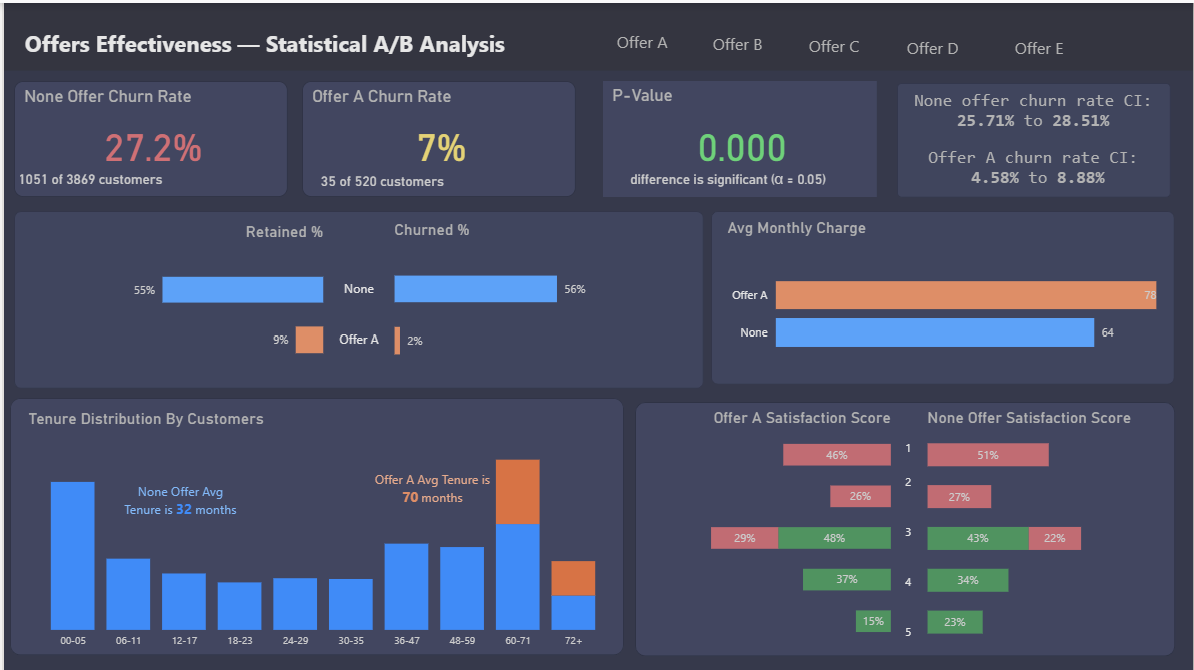

This screenshot's page, from the dashboard's own definition file:
{"tool":"powerbi","page":{"name":"Offer A/B test","canvas":[1280,720],"ordinal":4},"visuals":[{"type":"shape","box":[0,0,1280,72.9],"z":0,"group":"g3"},{"type":"group","id":"g1","title":"Group 8","box":[9.9,83,295.3,125],"z":0},{"type":"card","title":"None Offer Churn Rate","fields":{"Values":["_calculation.None Offer Churn Rate"]},"box":[10.2,83,295,125],"z":0,"group":"g1"},{"type":"card","title":"Offer E Churn Rate","fields":{"Values":["_calculation.Churn Rate"]},"box":[322.5,85,295,125],"z":0,"group":"g8"},{"type":"card","title":"P-Value","fields":{"Values":["Sum(offers A/B results.p-value)"]},"box":[645.1,85,295,125],"z":0,"group":"g7"},{"type":"shape","box":[962.4,87.3,295,123.5],"z":0,"group":"g10"},{"type":"group","id":"g2","title":"Churn vs Retained","box":[7,225.9,746.4,191],"z":0,"group":"g9"},{"type":"shape","box":[11,225.9,742.1,190.5],"z":0,"group":"g2"},{"type":"shape","box":[760,226.5,499.5,186],"z":0,"group":"g4"},{"type":"shape","box":[7.4,426.4,660.4,277.3],"z":0,"group":"g5"},{"type":"shape","box":[678.4,429.5,582,274.2],"z":0,"group":"g6"},{"type":"group","id":"g3","title":"Header","box":[0,0,1280,72.9],"z":1000},{"type":"actionButton","box":[1083.1,28.4,72,39.8],"z":1000,"group":"g3"},{"type":"enlightenDataStoryDDFB78A6143E42CFAFBC50CCF18D978D","fields":{"measure":["Min(offers A/B results.offer)","Sum(offers A/B results.low bound CI)","Sum(offers A/B results.high bound CI)"]},"box":[962.4,148,294.5,61.1],"z":1000,"group":"g10"},{"type":"card","fields":{"Values":["_calculation.Churn Subtitle"]},"box":[9.9,173.4,168.5,33],"z":1000,"group":"g1"},{"type":"card","fields":{"Values":["_calculation.P Value Result"]},"box":[645.6,175.6,269.2,34.7],"z":1000,"group":"g7"},{"type":"card","fields":{"Values":["_calculation.Churn Subtitle"]},"box":[327.7,178,168.5,33],"z":1000,"group":"g8"},{"type":"group","id":"g4","title":"Offer","box":[758,223.8,502.2,190],"z":1000,"group":"g9"},{"type":"clusteredBarChart","title":"Avg Monthly Charge","fields":{"Y":["_calculation.Monthly Charge"],"Category":["telco telco_customer_churn_services.Offer"]},"box":[758,223.8,502.2,190],"z":1000,"group":"g4"},{"type":"barChart","title":"Retained %","fields":{"Category":["telco telco_customer_churn_services.Offer"],"Y":["_calculation.Retained %"]},"box":[7,229,357.7,186],"z":1000,"group":"g2"},{"type":"columnChart","title":"Tenure Distribution By Customers","fields":{"Category":["telco telco_customer_churn_services.Tenure in Months Group"],"Y":["CountNonNull(telco telco_customer_churn.CustomerID)"],"Series":["telco telco_customer_churn_services.Offer"]},"box":[7.4,427.9,660.4,275.7],"z":1000,"group":"g5"},{"type":"textbox","box":[931.6,462.7,84.5,233],"z":1000,"group":"g6"},{"type":"actionButton","box":[967.6,28.4,72,39.8],"z":2000,"group":"g3"},{"type":"textbox","box":[961.6,88.8,302.7,74.7],"z":2000,"group":"g10"},{"type":"barChart","title":"Churned %","fields":{"Category":["telco telco_customer_churn_services.Offer"],"Y":["_calculation.Churn %"]},"box":[402.2,226.4,351.2,190.5],"z":2000,"group":"g2"},{"type":"group","id":"g5","title":"Tenure Part","box":[7.4,426.4,660.4,277.3],"z":2000,"group":"g9"},{"type":"barChart","title":"Offer E Satisfaction Score ","fields":{"Category":["telco telco_customer_churn_status.Satisfaction Score"],"Series":["telco vw_customer_status.Churn Label"],"Y":["_calculation.Satisfaction %"]},"box":[681.5,426.9,283.5,276.3],"z":2000,"group":"g6"},{"type":"enlightenDataStoryDDFB78A6143E42CFAFBC50CCF18D978D","fields":{"measure":["Min(offers A/B results.offer)","_calculation.Avg Tenure"]},"box":[133.3,494.8,137.9,69],"z":2000,"group":"g5"},{"type":"actionButton","box":[861.5,26.5,72,39.8],"z":3000,"group":"g3"},{"type":"textbox","box":[327.3,295.2,110.1,93.7],"z":3000,"group":"g2"},{"type":"group","id":"g6","title":"Staisfaction score","box":[678.4,426.9,582,278.4],"z":3000,"group":"g9"},{"type":"barChart","title":"None Offer Satisfaction Score","fields":{"Category":["telco telco_customer_churn_status.Satisfaction Score"],"Series":["telco vw_customer_status.Churn Label"],"Y":["_calculation.None Offer Satisfaction %"]},"box":[974.3,427.9,285.6,277.3],"z":3000,"group":"g6"},{"type":"enlightenDataStoryDDFB78A6143E42CFAFBC50CCF18D978D","fields":{"measure":["_calculation.Avg None Offer Tuner"]},"box":[379,518.5,137.9,66.8],"z":3000,"group":"g5"},{"type":"actionButton","box":[759.3,22.7,72,39.8],"z":4000,"group":"g3"},{"type":"group","id":"g7","title":"Group 5","box":[645.1,85,295,125.3],"z":4000,"group":"g9"},{"type":"actionButton","box":[655.1,20.8,72,39.8],"z":5000,"group":"g3"},{"type":"group","id":"g8","title":"Group 7","box":[322.5,85,295,126],"z":5000,"group":"g9"},{"type":"textbox","box":[10.2,21.6,575.1,51.2],"z":6000,"group":"g3"},{"type":"group","id":"g9","title":"offer E","box":[7,85,1257.3,620.2],"z":6000},{"type":"group","id":"g10","title":"Group 1","box":[961.6,87.3,302.7,123.5],"z":6000,"group":"g9"}]}

Visuals, with their boxes in screenshot pixels (x1, y1, x2, y2), scaled from the page's 1280x720 canvas onto the 1194x670 screenshot:
shape: 0, 0, 1193, 68
"Group 8" group: 9, 77, 285, 194
"None Offer Churn Rate" card: 10, 77, 285, 194
"Offer E Churn Rate" card: 301, 79, 576, 195
"P-Value" card: 602, 79, 877, 195
shape: 898, 81, 1173, 196
"Churn vs Retained" group: 7, 210, 703, 388
shape: 10, 210, 703, 387
shape: 709, 211, 1175, 384
shape: 7, 397, 623, 655
shape: 633, 400, 1176, 655
"Header" group: 0, 0, 1193, 68
actionButton: 1010, 26, 1077, 63
enlightenDataStoryDDFB78A6143E42CFAFBC50CCF18D978D - Min(offers A/B results.offer) x Sum(offers A/B results.low bound CI): 898, 138, 1172, 195
card - _calculation.Churn Subtitle: 9, 161, 166, 192
card - _calculation.P Value Result: 602, 163, 853, 196
card - _calculation.Churn Subtitle: 306, 166, 463, 196
"Offer" group: 707, 208, 1176, 385
"Avg Monthly Charge" clusteredBarChart: 707, 208, 1176, 385
"Retained %" barChart: 7, 213, 340, 386
"Tenure Distribution By Customers" columnChart: 7, 398, 623, 655
textbox: 869, 431, 948, 647
actionButton: 903, 26, 970, 63
textbox: 897, 83, 1179, 152
"Churned %" barChart: 375, 211, 703, 388
"Tenure Part" group: 7, 397, 623, 655
"Offer E Satisfaction Score " barChart: 636, 397, 900, 654
enlightenDataStoryDDFB78A6143E42CFAFBC50CCF18D978D - Min(offers A/B results.offer) x _calculation.Avg Tenure: 124, 460, 253, 525
actionButton: 804, 25, 871, 62
textbox: 305, 275, 408, 362
"Staisfaction score" group: 633, 397, 1176, 656
"None Offer Satisfaction Score" barChart: 909, 398, 1175, 656
enlightenDataStoryDDFB78A6143E42CFAFBC50CCF18D978D - _calculation.Avg None Offer Tuner: 354, 482, 482, 545
actionButton: 708, 21, 775, 58
"Group 5" group: 602, 79, 877, 196
actionButton: 611, 19, 678, 56
"Group 7" group: 301, 79, 576, 196
textbox: 10, 20, 546, 68
"offer E" group: 7, 79, 1179, 656
"Group 1" group: 897, 81, 1179, 196
